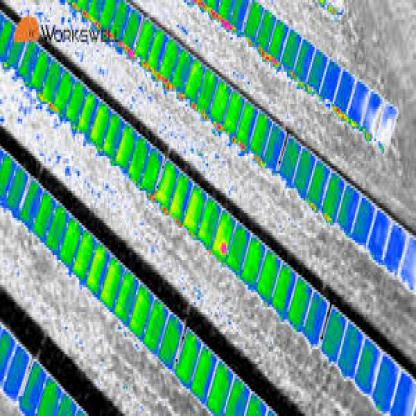Defects: (220, 242, 228, 258)
